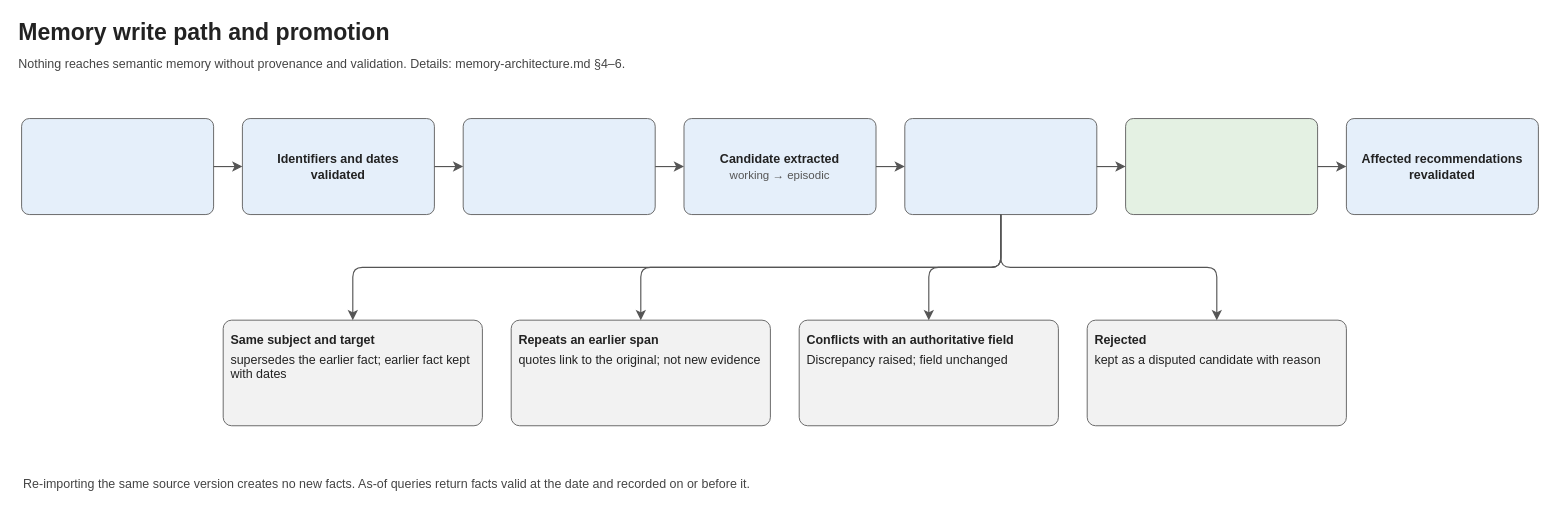
Image size: 1559x518. Some labels were removed from this diagram. The shapes that lost their labels are listed below. From the top down, each one's box as (x1, y1, x2, y2) in pixels, then its label:
(21, 118, 214, 215): Source preserved import version recorded
(462, 118, 655, 215): Identity reconciled no merge on similar names
(904, 118, 1097, 215): Reviewer validation confirm, correct or reject
(1125, 118, 1318, 215): Promoted with provenance semantic; valid and recorded time
